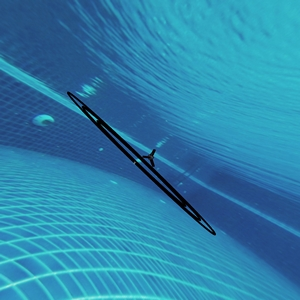circle: (48, 60, 248, 274)
